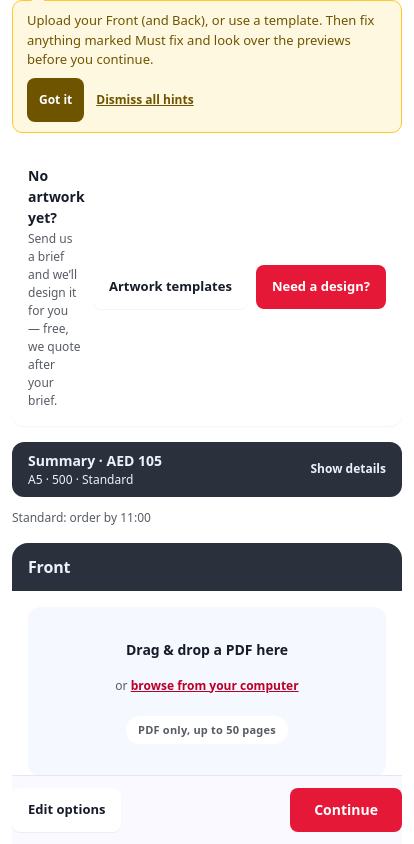
Test case: the Artwork page on a phone › the Summary is a labelled bar above the upload that expands, and a panel from lg up
The image size is (414, 844).
Step 1. Click the button "Summary · AED 105 A5 · 500 · Standard Show details" → point(62, 460), box [12, 442, 402, 496]
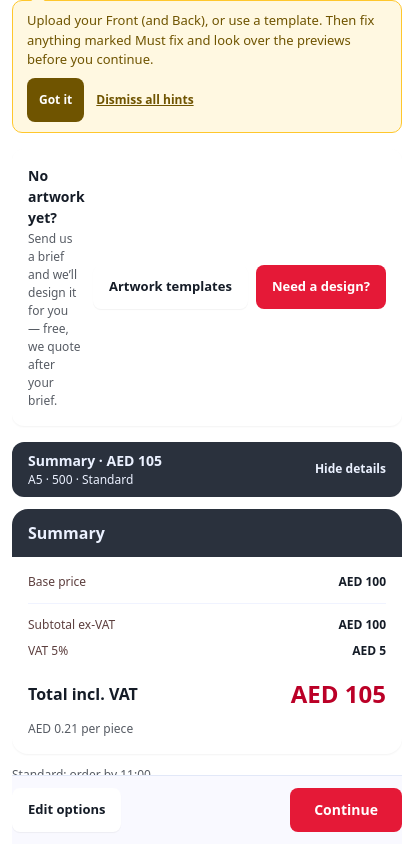
Check: the button "Summary · AED 105 A5 · 500 · Standard Hide details" is expanded, box [12, 442, 402, 496]
